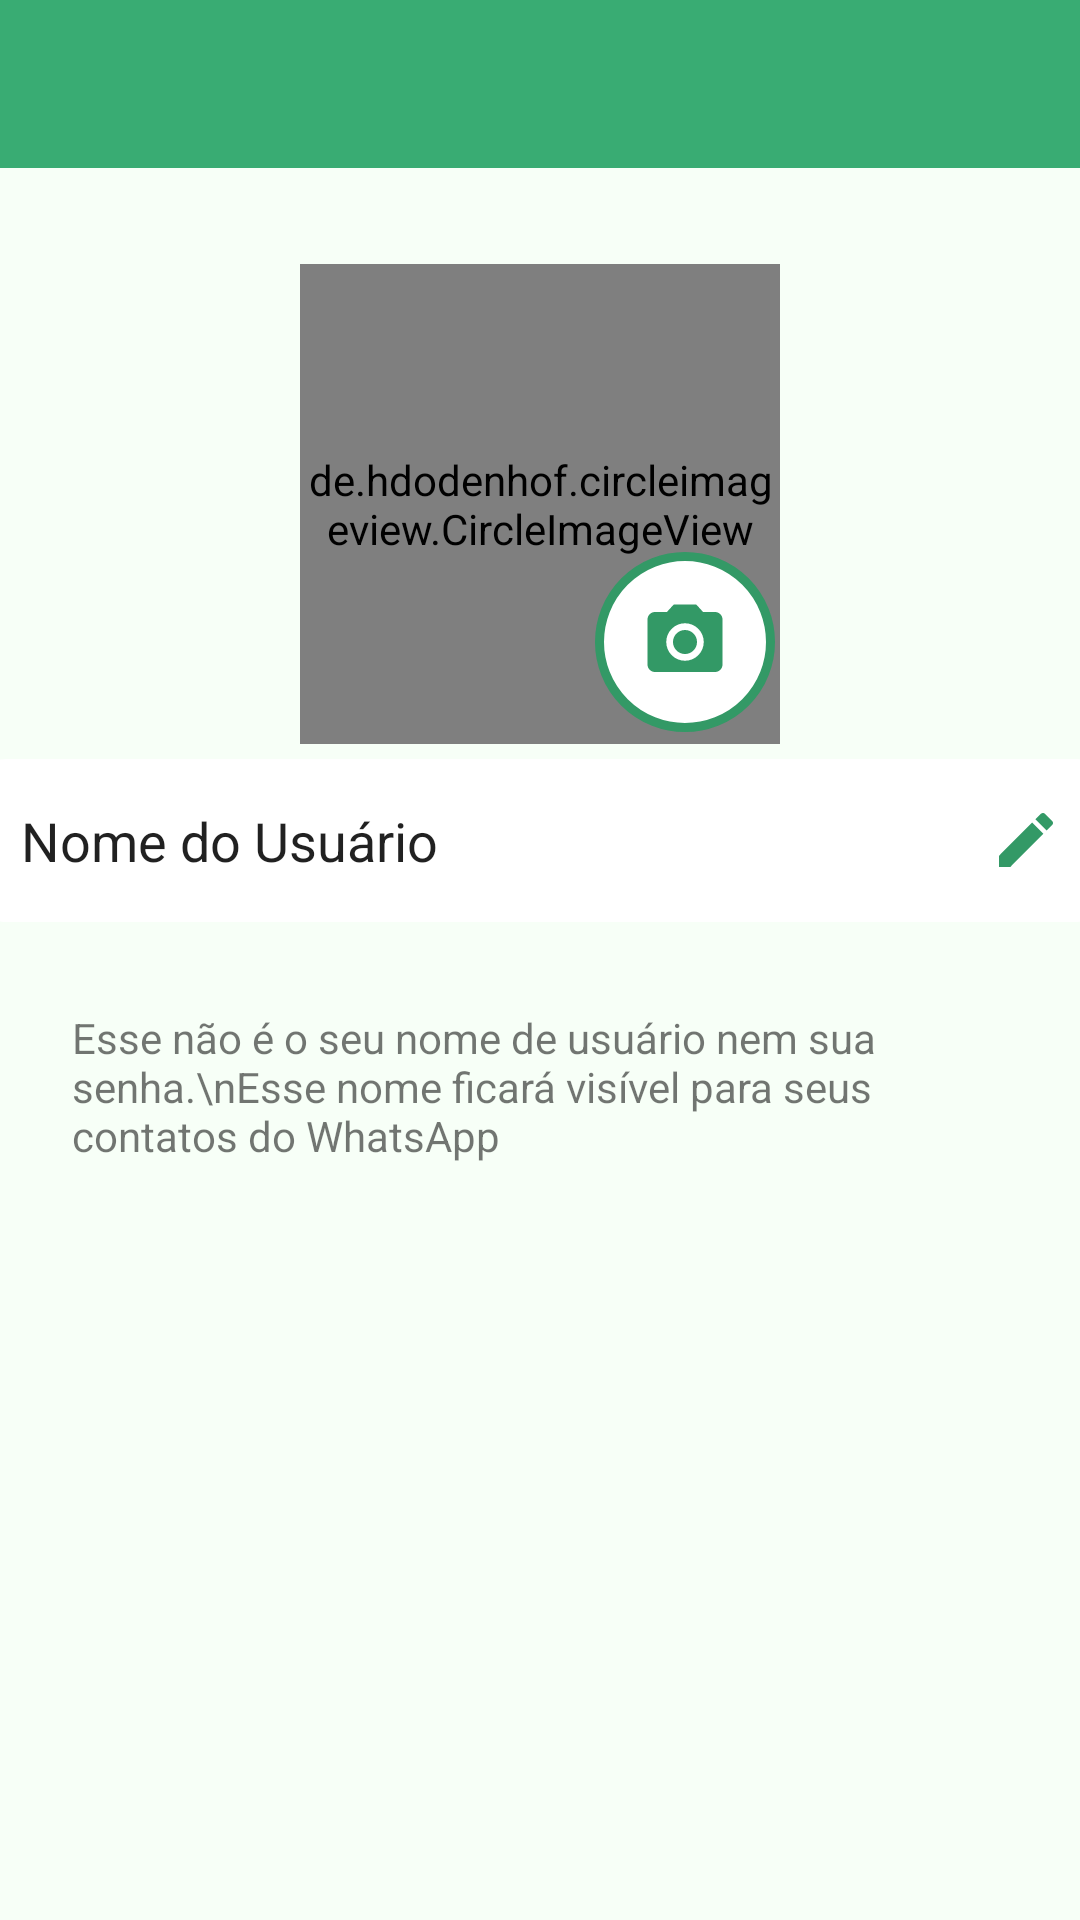

Icons on this 1080 × 1920 Android screen, each with its box as {"x1": x1, "y1": y1, "x2": x2, "y2": y2}:
photo camera: {"x1": 595, "y1": 552, "x2": 775, "y2": 732}
